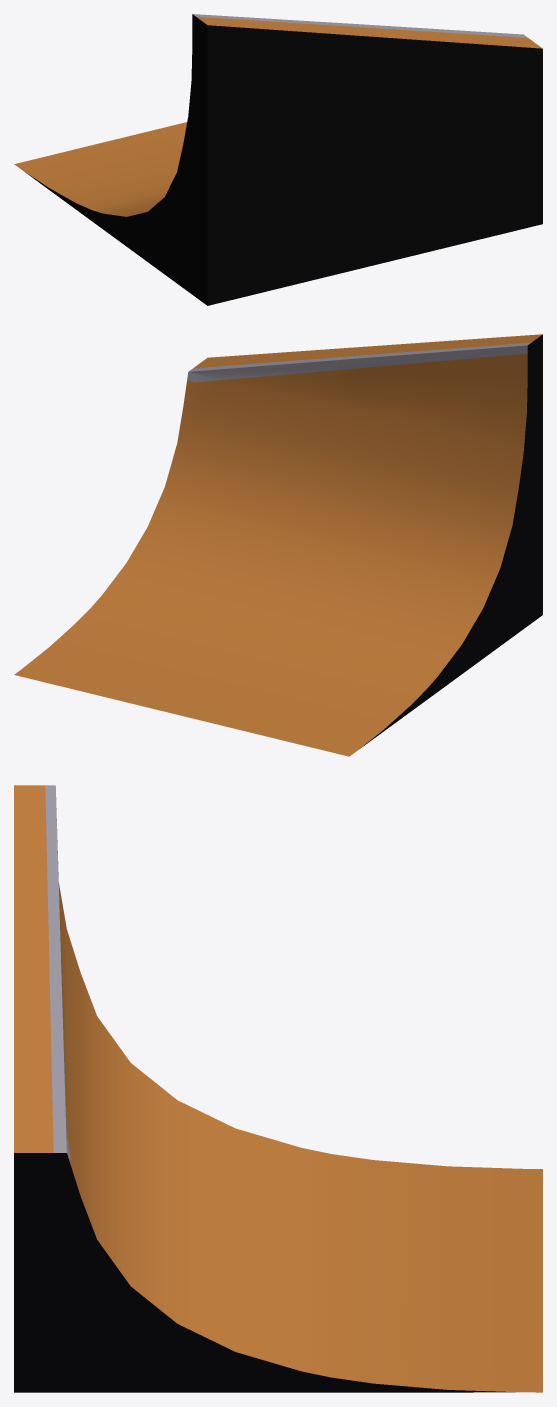
Rendered from Quater_LRG_HighVert_RL.obj.
3 views of the same model, one above another, from view 1: azimuth 30°, elevation 25°; view 2: azimuth 150°, elevation 25°; view 3: azimuth 270°, elevation 25° (orthographic). The views are drawn at different scales.
Visible parts, largest first — view 1: Quater_LRG_HighVert_RL; view 2: Quater_LRG_HighVert_RL; view 3: Quater_LRG_HighVert_RL.
Boxes of the visible parts, x1,y1,x2,y2 form: Quater_LRG_HighVert_RL: (14,14,542,305); Quater_LRG_HighVert_RL: (14,334,542,756); Quater_LRG_HighVert_RL: (14,785,542,1392).
Bounding box in the file's own units: 20 × 16 × 20.
